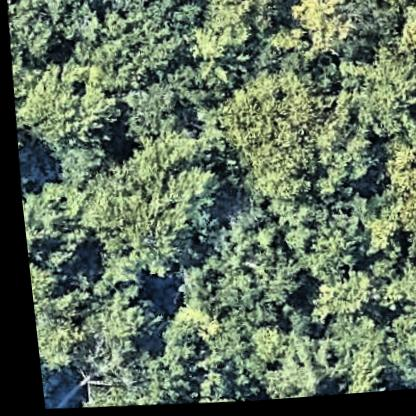tree-top: (68, 130, 226, 290), (213, 59, 364, 216), (191, 209, 303, 324), (16, 57, 121, 162), (63, 281, 164, 380), (271, 194, 370, 289), (93, 0, 188, 90), (240, 311, 328, 404), (311, 309, 384, 400), (185, 0, 277, 61), (25, 287, 85, 378), (16, 184, 85, 261), (116, 66, 188, 138), (352, 56, 416, 136), (8, 0, 92, 60), (297, 273, 380, 331), (373, 140, 416, 246), (291, 0, 358, 65), (365, 306, 416, 390), (345, 0, 403, 71), (144, 314, 202, 380), (373, 258, 416, 316)
